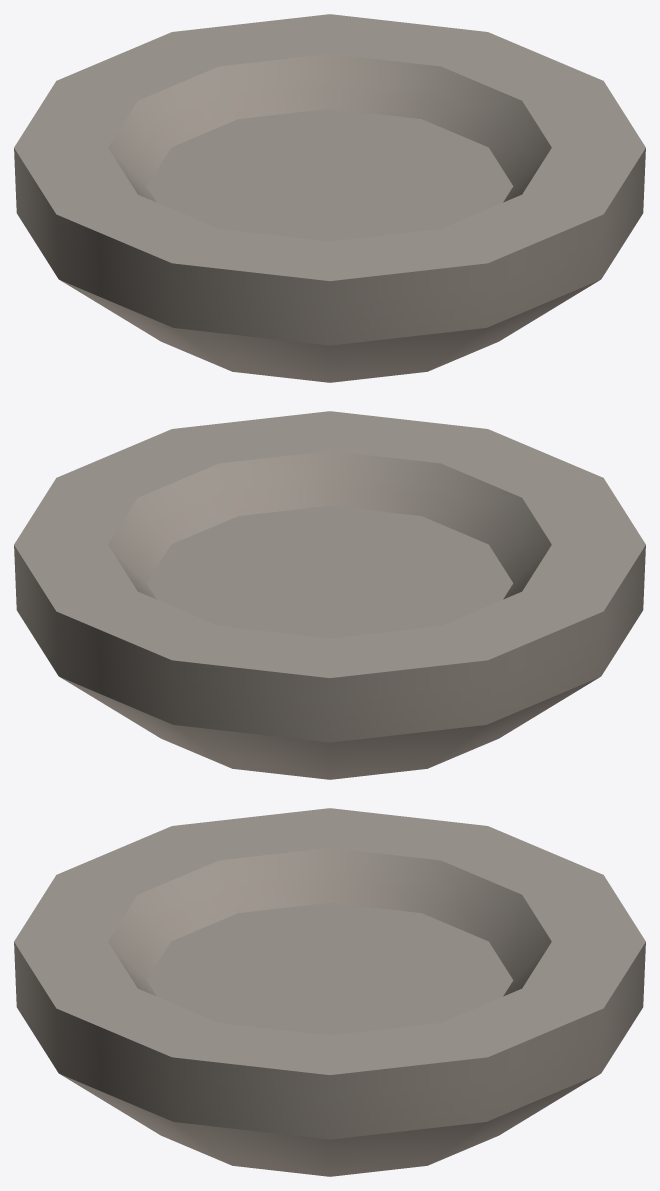
The model's file is plate_small.gltf.
3 views of the same model, one above another, from view 1: azimuth 30°, elevation 25°; view 2: azimuth 150°, elevation 25°; view 3: azimuth 270°, elevation 25° (orthographic).
Parts seen in each view (by area): view 1: plate_small; view 2: plate_small; view 3: plate_small.
Part boxes in pixels (x1,y1,x2,y2): plate_small: (14, 14, 645, 382); plate_small: (14, 411, 645, 779); plate_small: (14, 808, 645, 1176).
Bounding box in the file's own units: 0.4853 × 0.1294 × 0.4853.
Materials: 1 (1 with a texture image).
